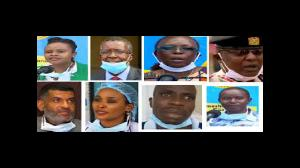mask_weared_incorrect: (155, 88, 196, 126), (220, 49, 262, 76), (158, 44, 197, 69), (101, 47, 127, 68)
without_mask: (92, 94, 125, 120), (50, 95, 77, 122), (221, 94, 249, 110), (44, 47, 71, 63)
